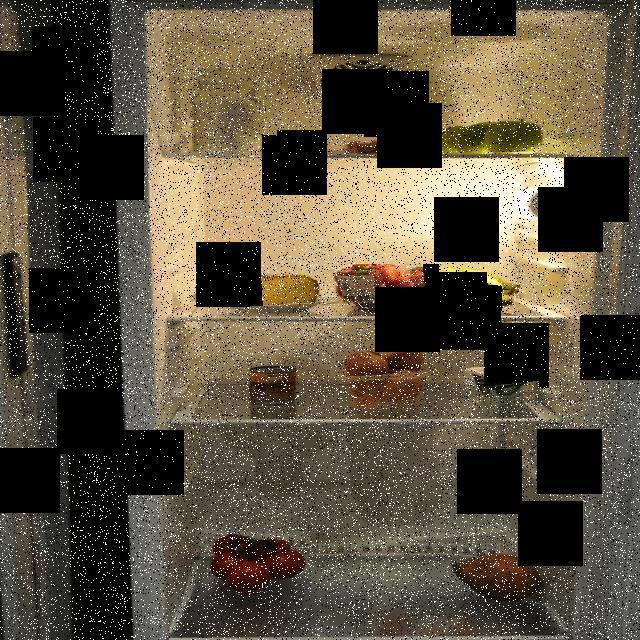apple: (428, 114, 546, 152)
banana: (429, 265, 519, 311)
cheese: (230, 272, 322, 312)
corn: (246, 362, 299, 405)
goat_cheese: (465, 367, 539, 405)
onion: (341, 347, 426, 409)
shrimp: (342, 134, 434, 156)
strawberries: (330, 264, 439, 312)
sugar: (188, 68, 278, 158)
sweet_potato: (446, 540, 554, 604)
tomato: (207, 531, 310, 597)
